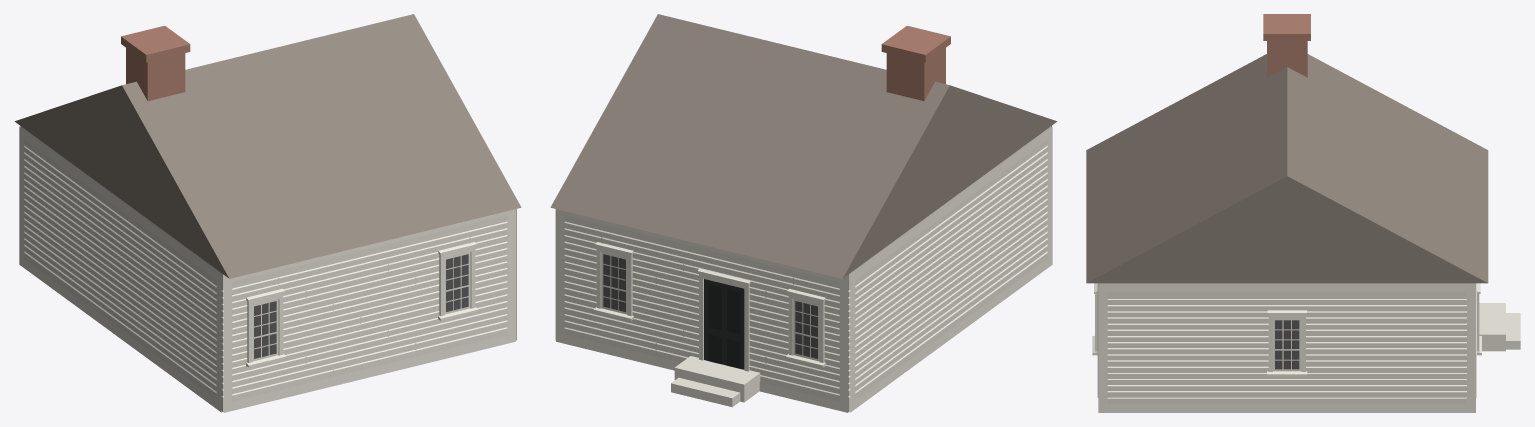
Rendered from recon_1835_blk_school_section_tier_94_d4_04__inferred_1835.glb.
3 views of the same model, side by side, from view 1: azimuth 30°, elevation 25°; view 2: azimuth 150°, elevation 25°; view 3: azimuth 270°, elevation 25° (orthographic). The views are drawn at different scales.
Visible parts, largest first — view 1: recon_1835_blk_school_section_tier_94_d4_04__inferred_1835; view 2: recon_1835_blk_school_section_tier_94_d4_04__inferred_1835; view 3: recon_1835_blk_school_section_tier_94_d4_04__inferred_1835.
Part boxes in pixels (<box>): recon_1835_blk_school_section_tier_94_d4_04__inferred_1835: <box>14,14,521,412</box>; recon_1835_blk_school_section_tier_94_d4_04__inferred_1835: <box>550,14,1057,412</box>; recon_1835_blk_school_section_tier_94_d4_04__inferred_1835: <box>1086,14,1520,412</box>.
Bounding box in the file's own units: 6.65 × 6.16 × 8.96.
